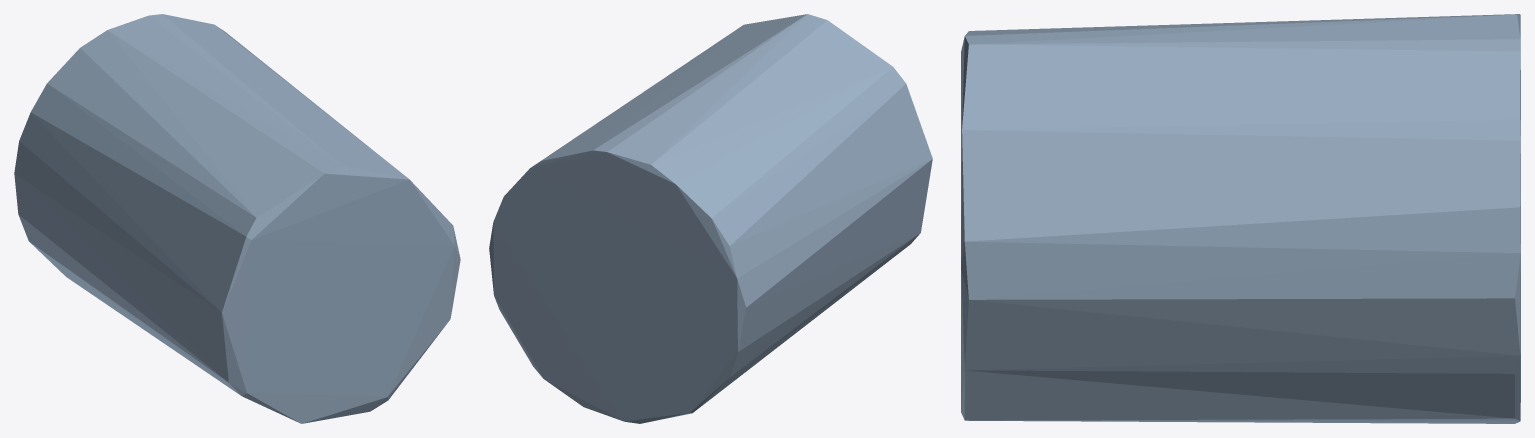
The model's file is food_beverage_coffeeCup_a03.glb.
The picture shows the model from 3 angles, left to right: view 1: azimuth 30°, elevation 25°; view 2: azimuth 150°, elevation 25°; view 3: azimuth 270°, elevation 25°; orthographic projection. The views are drawn at different scales.
Parts seen in each view (by area): view 1: geometry_0; view 2: geometry_0; view 3: geometry_0.
Part boxes in pixels (box(x1,y1,x2,y2)): geometry_0: box(14, 14, 460, 423); geometry_0: box(489, 14, 932, 423); geometry_0: box(961, 14, 1520, 423).
Size of the model in its own units: 0.3559 by 0.3509 by 0.48.
